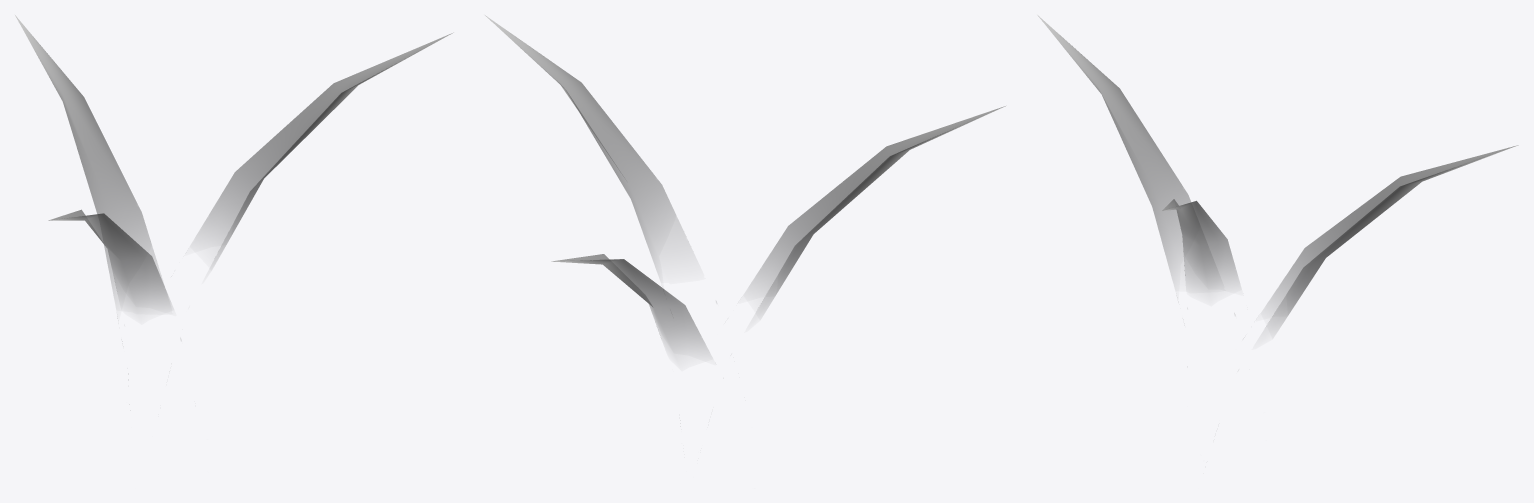
File: glass_move.glb
The picture shows the model from 3 angles, left to right: view 1: azimuth 30°, elevation 25°; view 2: azimuth 150°, elevation 25°; view 3: azimuth 270°, elevation 25°; orthographic projection. The views are drawn at different scales.
Visible parts, largest first — view 1: Plane002.001, Plane003.001, Plane001.001; view 2: Plane003.001, Plane001.001, Plane002.001; view 3: Plane001.001, Plane002.001, Plane003.001.
Boxes of the visible parts, box(x1,y1,x2,y2) form: Plane002.001: box(15, 15, 158, 318); Plane003.001: box(169, 32, 453, 371); Plane001.001: box(48, 209, 169, 410); Plane003.001: box(484, 14, 688, 266); Plane001.001: box(752, 105, 1006, 309); Plane002.001: box(551, 254, 706, 426); Plane001.001: box(1037, 15, 1190, 275); Plane002.001: box(1266, 145, 1518, 326); Plane003.001: box(1162, 199, 1238, 288).
Bounding box in the file's own units: 0.2801 × 0.2262 × 0.2575.
1 material, 1 textured.
